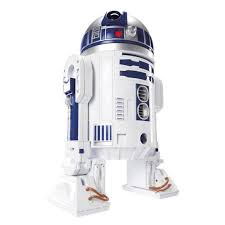r2d2: (44, 9, 179, 217)
